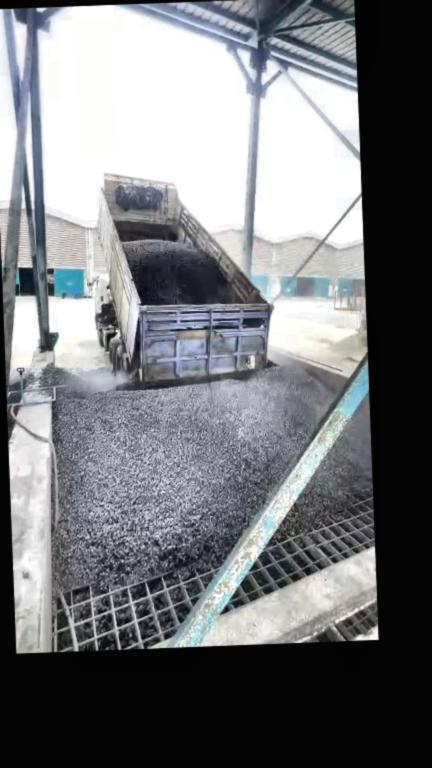gravel: (39, 355, 343, 590), (276, 398, 372, 537), (124, 239, 234, 305), (6, 377, 21, 441)
sand: (296, 332, 367, 376)
